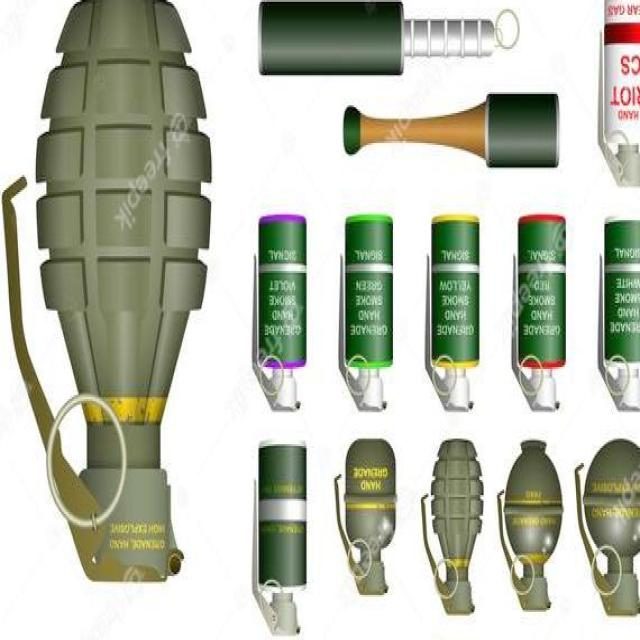grenade: (2, 3, 216, 577), (251, 206, 310, 421), (497, 438, 565, 615), (426, 210, 484, 417), (251, 445, 311, 637), (576, 436, 640, 616), (514, 210, 569, 417), (424, 436, 486, 615), (339, 218, 394, 415), (336, 436, 400, 598), (595, 215, 640, 419), (599, 1, 640, 193)
